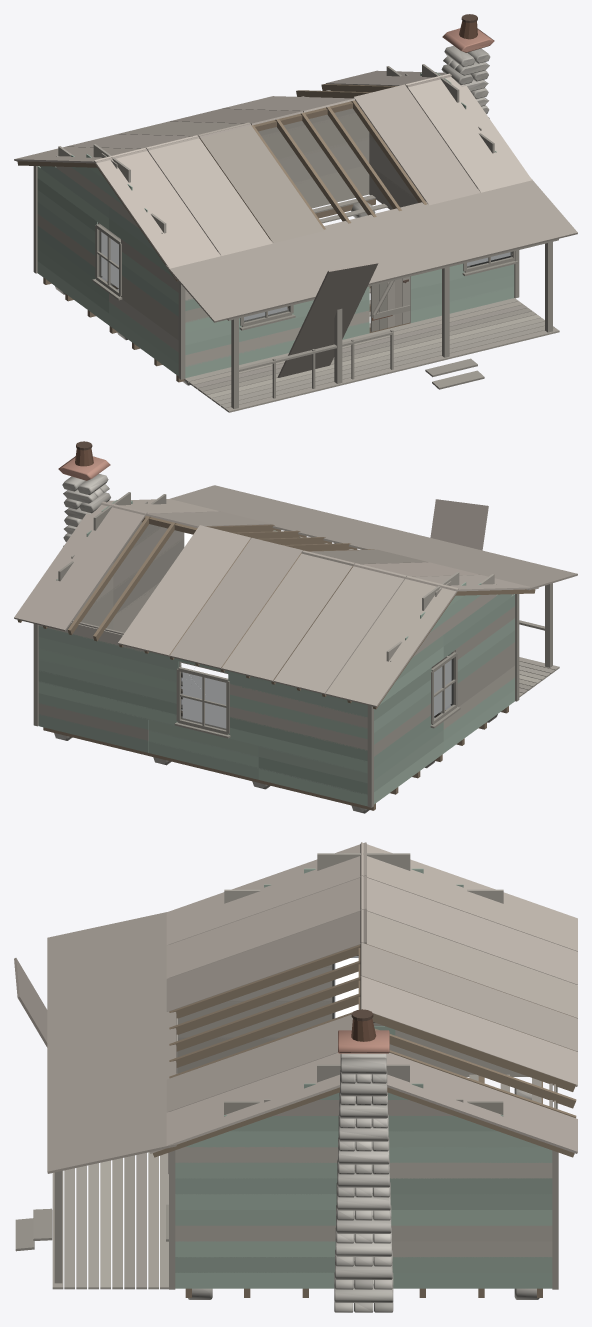
File: cabin_abandoned_a_broken_roof_lod1.glb
3 views of the same model, one above another, from view 1: azimuth 30°, elevation 25°; view 2: azimuth 150°, elevation 25°; view 3: azimuth 270°, elevation 25° (orthographic). The views are drawn at different scales.
Parts seen in each view (by area): view 1: body, door, windows, window_light; view 2: body, windows, window_light; view 3: body, window_light.
Boxes of the visible parts, left/top/right/bottom form: body: left=14, top=14, right=577, bottom=412; door: left=370, top=276, right=410, bottom=331; windows: left=99, top=230, right=512, bottom=322; window_light: left=101, top=232, right=510, bottom=320; body: left=14, top=441, right=577, bottom=813; windows: left=181, top=658, right=453, bottom=729; window_light: left=182, top=532, right=451, bottom=728; body: left=14, top=842, right=577, bottom=1312; window_light: left=335, top=958, right=358, bottom=1017.
Size of what is drawn, in the model's own units: 9.46 by 5.47 by 8.96.
